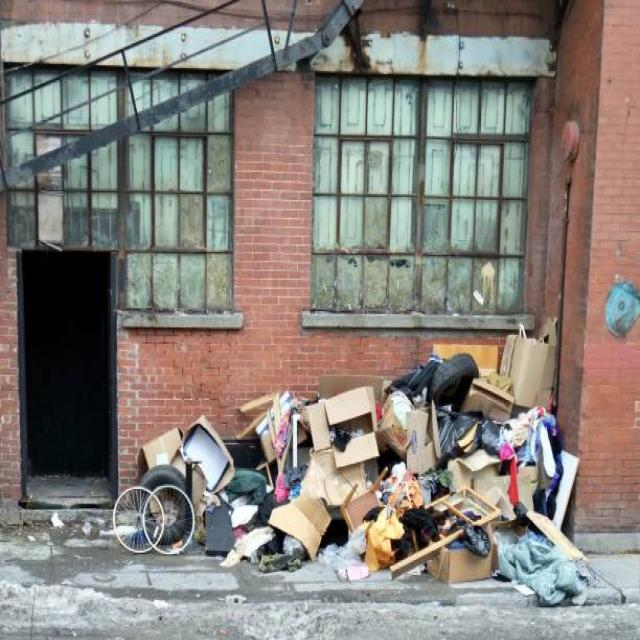cardboard: (165, 354, 564, 576)
